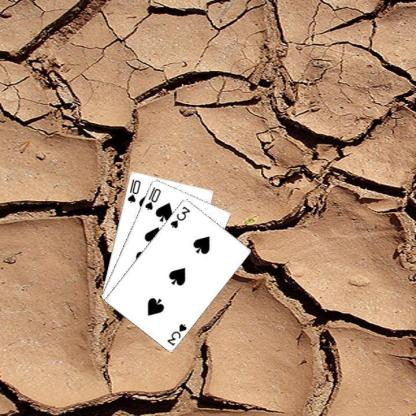10S: (142, 184, 162, 211), (124, 176, 141, 204)
3S: (164, 320, 188, 346), (168, 204, 191, 230)
